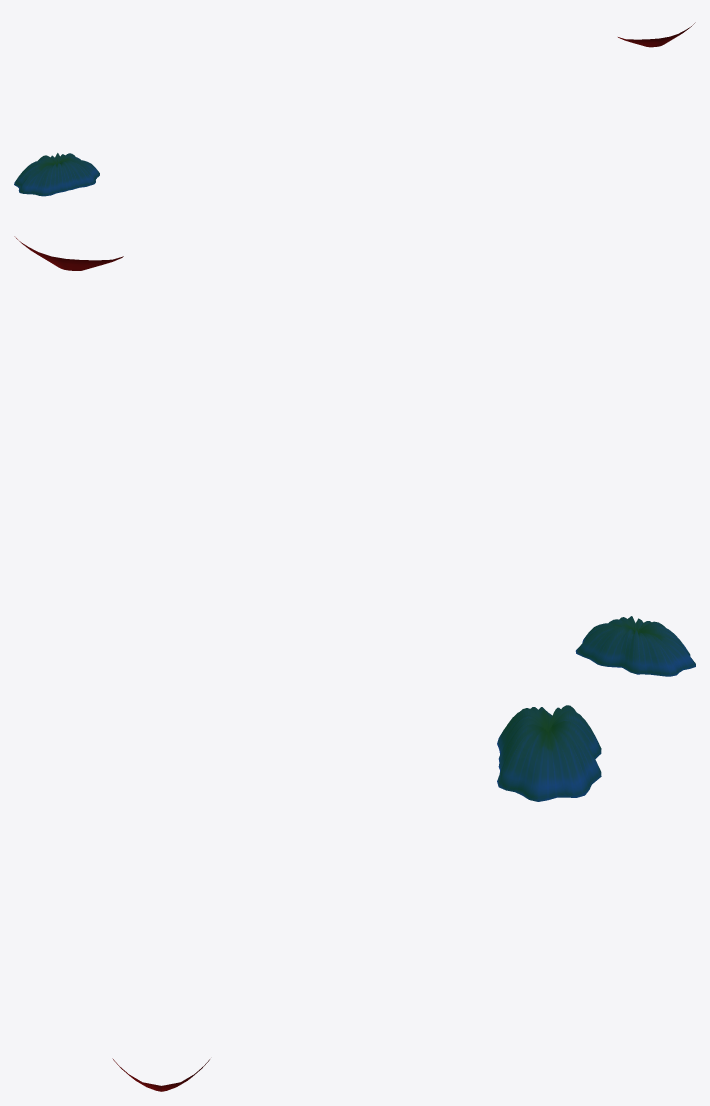
File: open_brain.glb
3 renders of one model, top to bottom at view 1: azimuth 30°, elevation 25°; view 2: azimuth 150°, elevation 25°; view 3: azimuth 270°, elevation 25°, orthographic. The views are drawn at different scales.
Parts seen in each view (by area): view 1: Mantle, Body; view 2: Mantle, Body; view 3: Mantle.
Part boxes in pixels (bbox=[...]): Mantle: bbox=[14, 153, 99, 196]; Body: bbox=[618, 22, 695, 47]; Mantle: bbox=[575, 616, 695, 676]; Body: bbox=[14, 236, 123, 270]; Mantle: bbox=[497, 705, 601, 801].
Bounding box in the file's own units: 69.47 × 11.87 × 25.51.
Materials: 3 (3 with a texture image).
